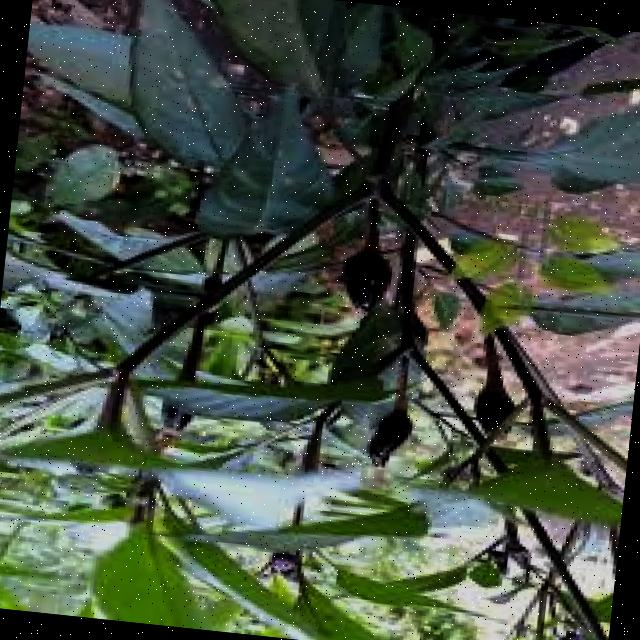healthy: (152, 56, 354, 256)
